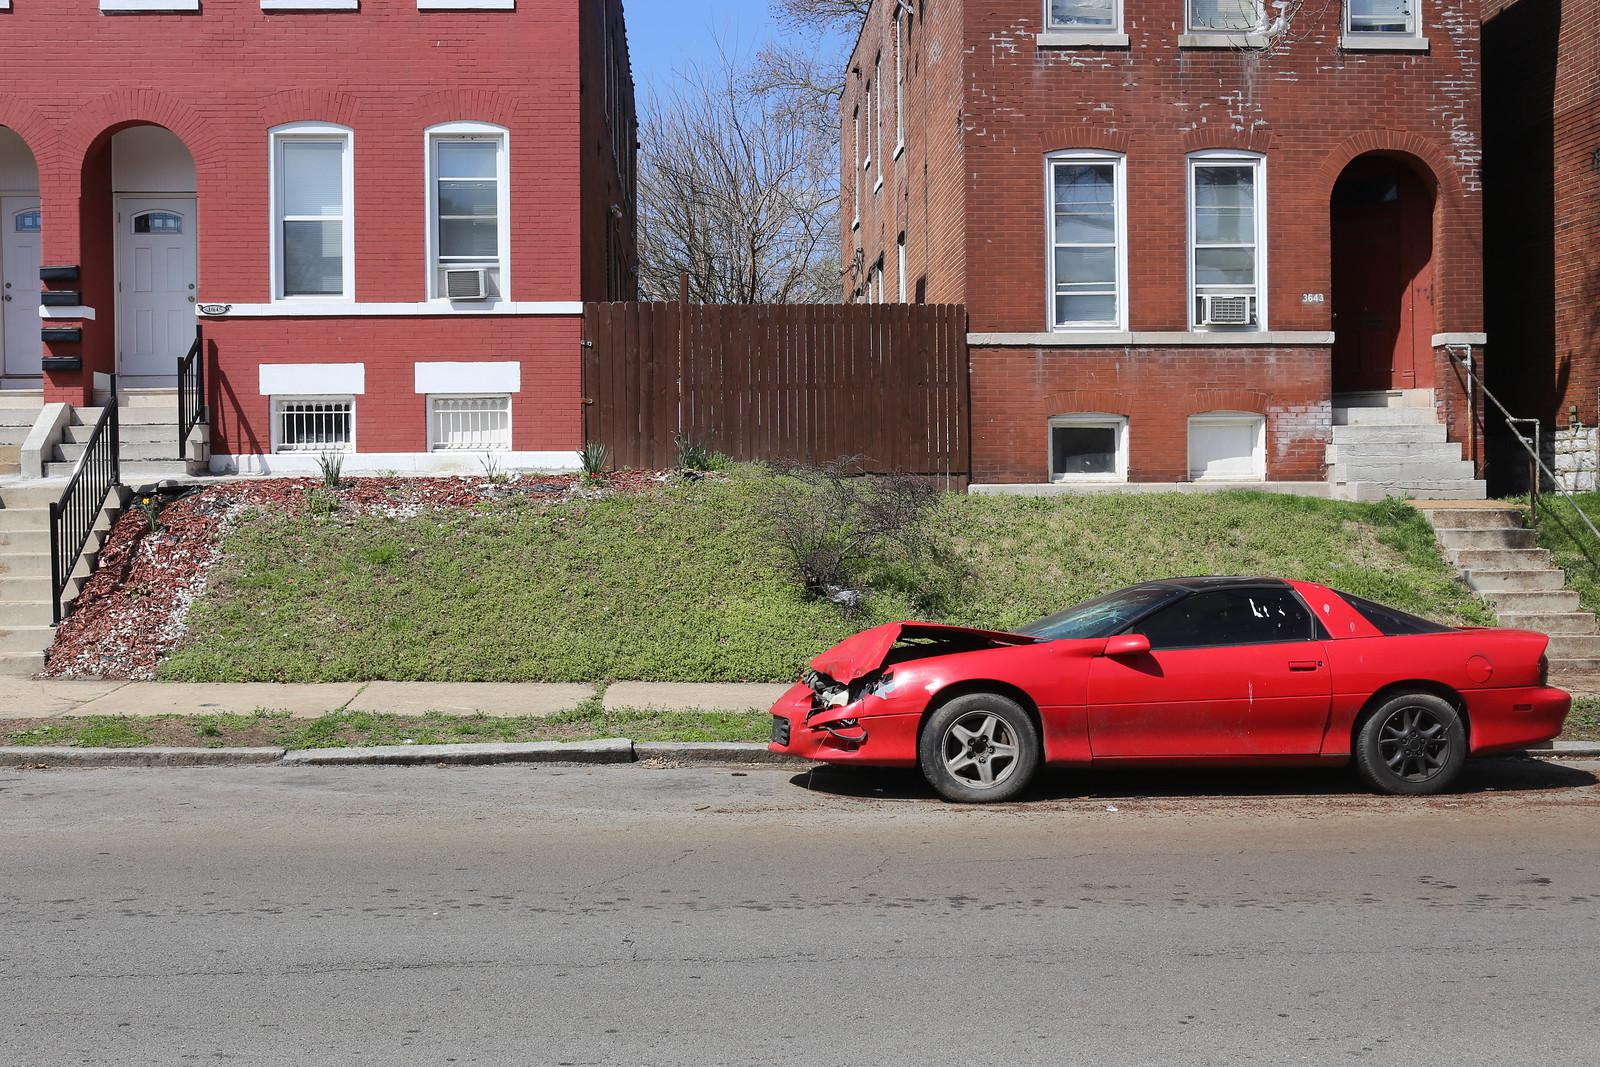boot-dent: (806, 614, 987, 675)
front-bumper-dent: (754, 715, 900, 760)
